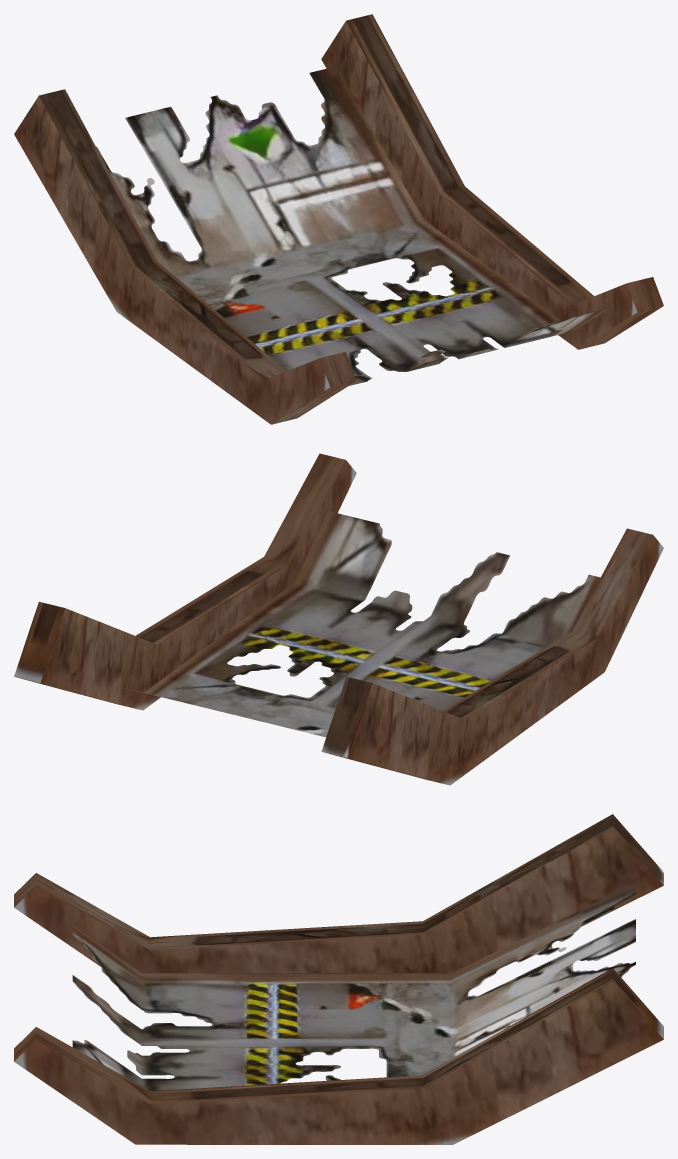
File: junk2_hdtex.glb
3 renders of one model, top to bottom at view 1: azimuth 30°, elevation 25°; view 2: azimuth 150°, elevation 25°; view 3: azimuth 270°, elevation 25°, orthographic. The views are drawn at different scales.
Visible parts, largest first — view 1: Junk2; view 2: Junk2; view 3: Junk2.
Part boxes in pixels (x1=…): Junk2: x1=14, y1=14, x2=663, y2=424; Junk2: x1=14, y1=453, x2=663, y2=785; Junk2: x1=14, y1=814, x2=663, y2=1144.
Size of the model in its own units: 7.35 by 3.36 by 12.07.
1 material, 1 textured.
